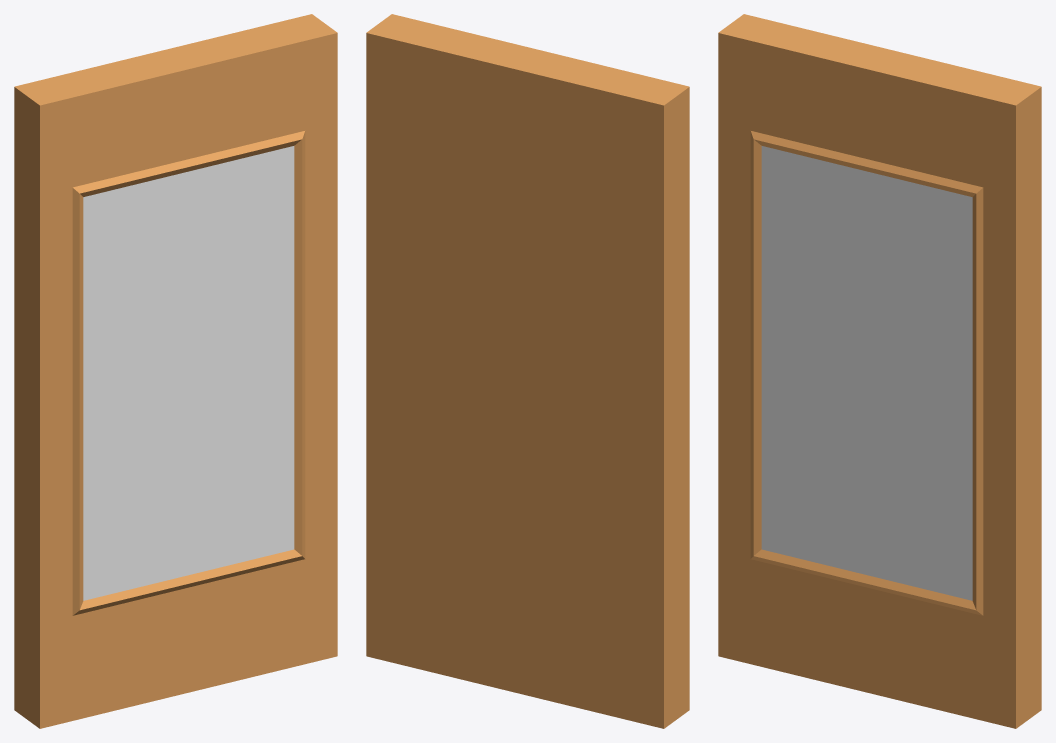
The model's file is YellowGalleryInfo.glb.
The picture shows the model from 3 angles, left to right: view 1: azimuth 30°, elevation 25°; view 2: azimuth 150°, elevation 25°; view 3: azimuth 330°, elevation 25°; orthographic projection.
Visible parts, largest first — view 1: galleryInfo_Yellow; view 2: galleryInfo_Yellow; view 3: galleryInfo_Yellow.
Part boxes in pixels (box(x1,y1,x2,y2)): galleryInfo_Yellow: box(14, 14, 337, 728); galleryInfo_Yellow: box(366, 14, 689, 728); galleryInfo_Yellow: box(718, 14, 1041, 728).
Size of what is drawn, in the model's own units: 2 by 4 by 0.3245.
Materials: 1 (1 with a texture image).
